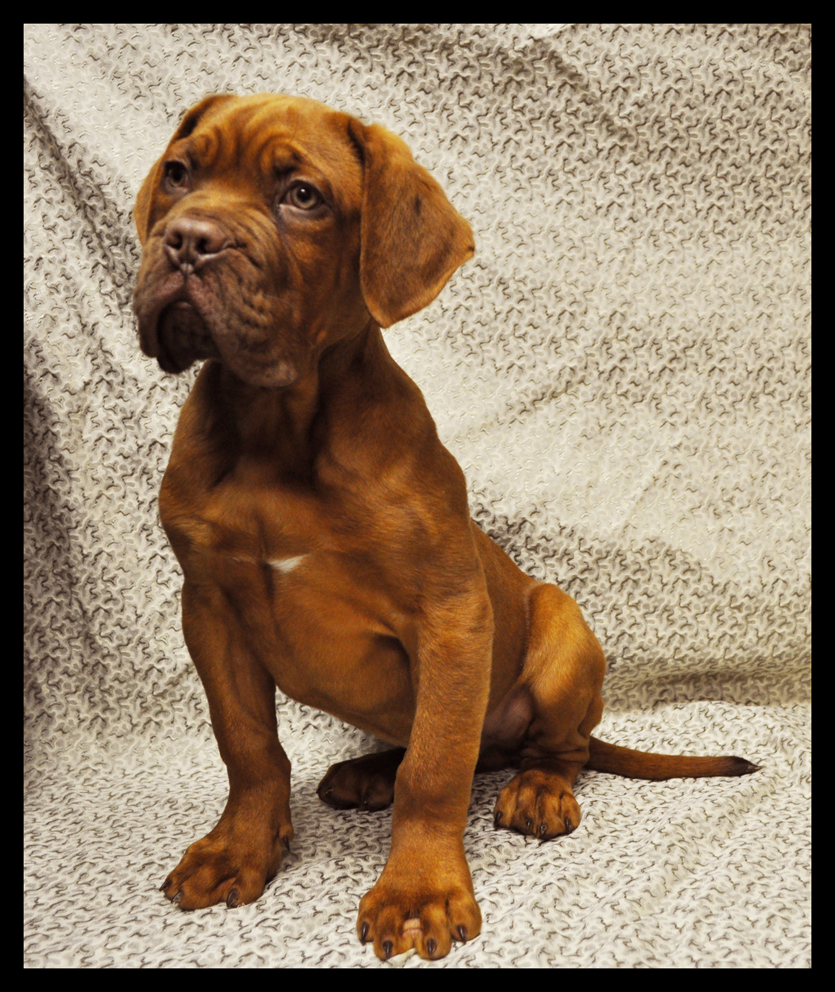dogue_de_bordeaux: (132, 92, 765, 962)
